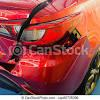rear-bumper-dent: (0, 32, 99, 92)
